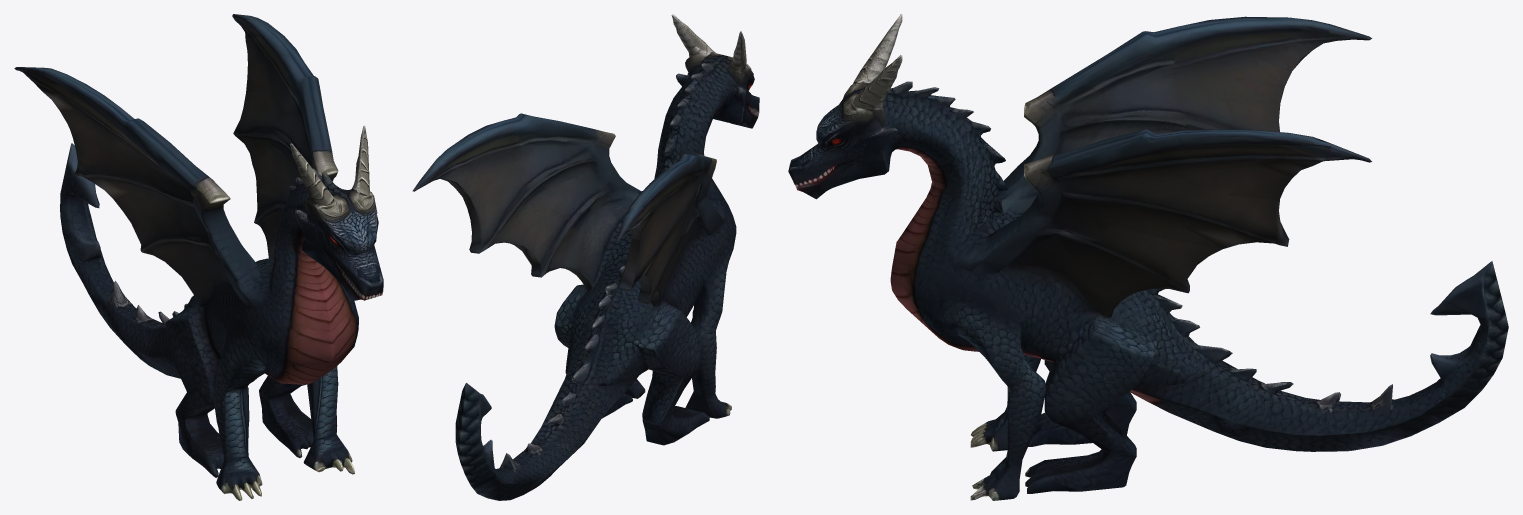
Rendered from dragon.glb.
3 views of the same model, side by side, from view 1: azimuth 30°, elevation 25°; view 2: azimuth 150°, elevation 25°; view 3: azimuth 270°, elevation 25° (orthographic). The views are drawn at different scales.
Bounding box in the file's own units: 0.7789 × 1.26 × 1.9.
1 material, 1 textured.
